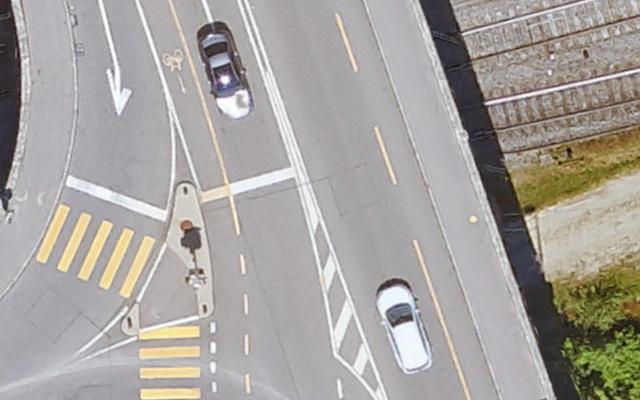tree: (564, 328, 640, 399)
